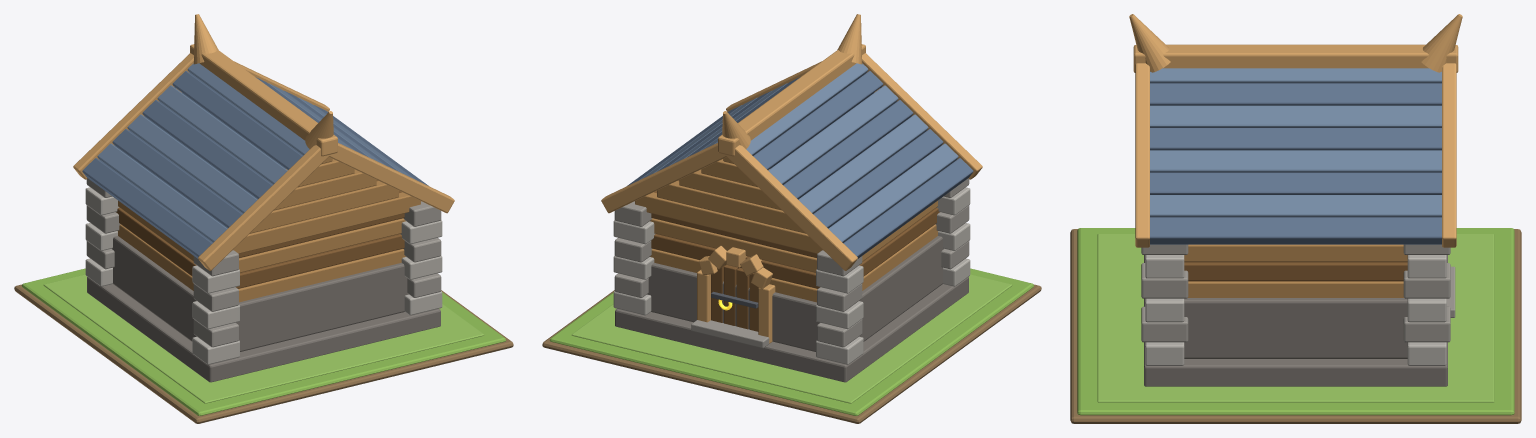
The model's file is builder_hall_lv1.glb.
The picture shows the model from 3 angles, left to right: view 1: azimuth 30°, elevation 25°; view 2: azimuth 150°, elevation 25°; view 3: azimuth 270°, elevation 25°; orthographic projection. The views are drawn at different scales.
Parts seen in each view (by area): view 1: BH_SlateWainscot, Base_Inner, BH_Foundation, Base_Grass, Base_Dirt, WallPlank_4, WallPlank_3, RidgeBeam, RoofSlope_-1_7, Gable_-1_0, Bargeboard_-1_-1, WallPlank_5 (+33 smaller); view 2: Base_Inner, BH_SlateWainscot, BH_Foundation, Base_Grass, Base_Dirt, RidgeBeam, RoofSlope_-1_7, Gable_1_0, Bargeboard_1_-1, RoofSlope_-1_3, RoofSlope_-1_5, RoofSlope_-1_1 (+39 smaller); view 3: Base_Inner, Base_Grass, BH_SlateWainscot, RoofSlope_1_7, BH_Foundation, Base_Dirt, RidgeBeam, RoofSlope_1_1, RoofSlope_1_2, RoofSlope_1_3, RoofSlope_1_4, RoofSlope_1_5 (+21 smaller).
Boxes of the visible parts, x1,y1,x2,y2 form: BH_SlateWainscot: (112,236,408,351); Base_Inner: (43,274,484,403); BH_Foundation: (87,277,440,382); Base_Grass: (21,268,506,415); Base_Dirt: (14,284,513,423); WallPlank_4: (116,208,404,288); WallPlank_3: (117,224,405,302); RidgeBeam: (190,44,337,156); RoofSlope_-1_7: (82,158,212,258); Gable_-1_0: (232,192,420,253); Bargeboard_-1_-1: (198,145,329,270); WallPlank_5: (118,200,405,272); Base_Inner: (571,274,1012,403); BH_SlateWainscot: (647,236,943,351); BH_Foundation: (615,277,968,382); Base_Grass: (549,268,1034,415); Base_Dirt: (542,284,1041,423); RidgeBeam: (718,44,865,156); RoofSlope_-1_7: (843,158,973,258); Gable_1_0: (635,192,823,253); Bargeboard_1_-1: (726,145,857,270); RoofSlope_-1_3: (783,100,913,199); RoofSlope_-1_5: (813,129,943,228); RoofSlope_-1_1: (753,71,883,169); Base_Inner: (1097,234,1494,402); Base_Grass: (1077,228,1514,415); BH_SlateWainscot: (1184,298,1407,358); RoofSlope_1_7: (1150,217,1441,244); BH_Foundation: (1144,255,1447,386); Base_Dirt: (1070,229,1521,423); RidgeBeam: (1133,44,1458,72); RoofSlope_1_1: (1150,83,1441,105); RoofSlope_1_2: (1150,105,1441,127); RoofSlope_1_3: (1150,128,1441,150); RoofSlope_1_4: (1150,150,1441,172); RoofSlope_1_5: (1150,172,1441,194).
Size of the model in its own units: 3.68 by 2.84 by 3.68.
